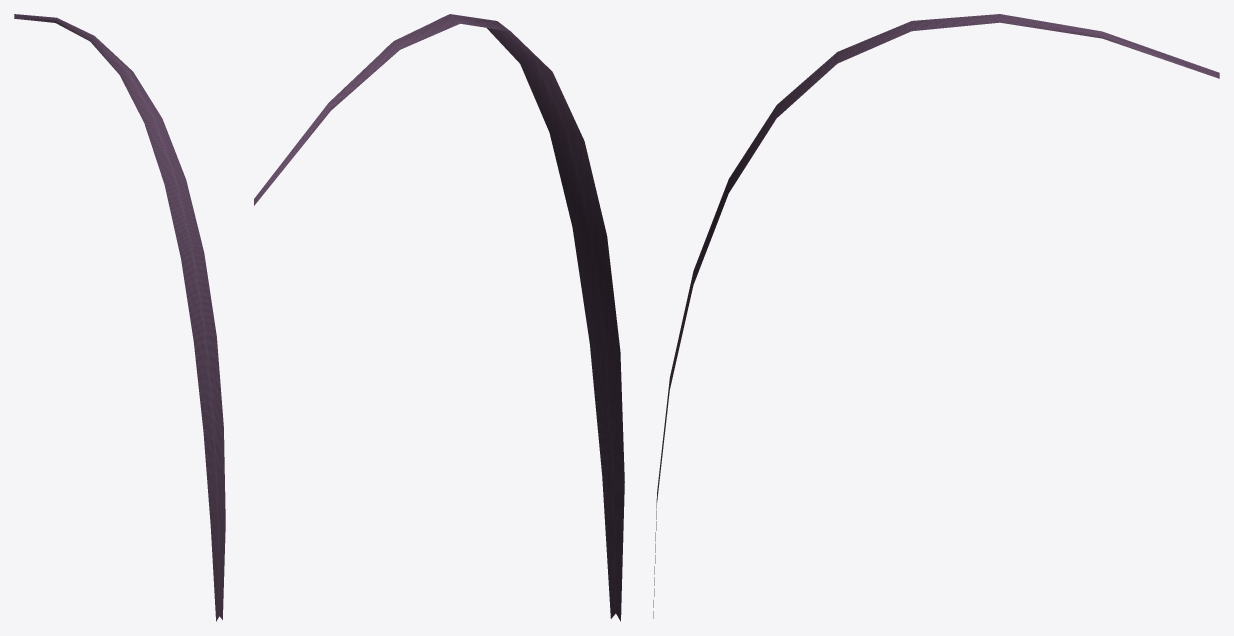
Rendered from single_blade_08.glb.
The picture shows the model from 3 angles, left to right: view 1: azimuth 30°, elevation 25°; view 2: azimuth 150°, elevation 25°; view 3: azimuth 270°, elevation 25°; orthographic projection. The views are drawn at different scales.
Parts seen in each view (by area): view 1: export; view 2: export; view 3: export.
Boxes of the visible parts, bbox=[...] form: export: bbox=[14, 14, 225, 621]; export: bbox=[254, 14, 624, 621]; export: bbox=[653, 14, 1219, 618].
Size of the model in its own units: 0.0605 by 1.01 by 0.8452.
Materials: 1 (1 with a texture image).
